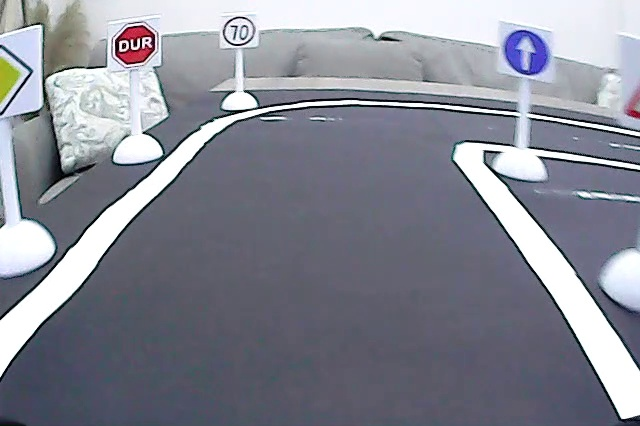speed limit 70: (220, 13, 257, 49)
stop sign: (111, 20, 158, 68)
